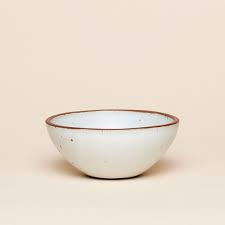bowl: (43, 103, 184, 185)
